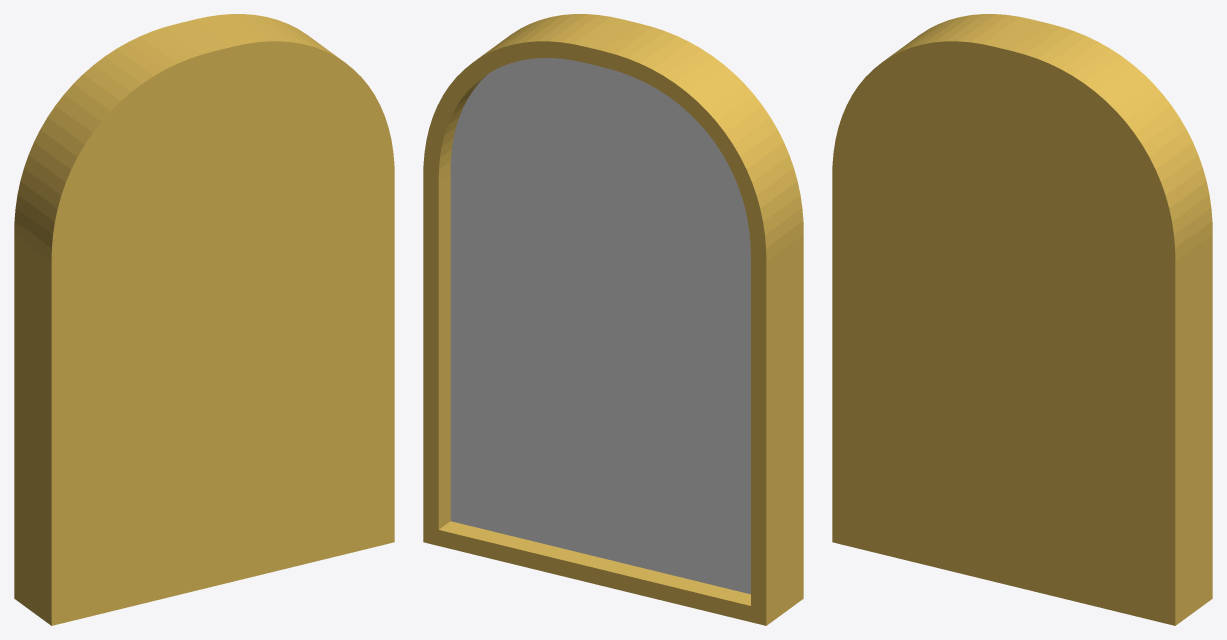
Rendered from mirror.fbx.
The picture shows the model from 3 angles, left to right: view 1: azimuth 30°, elevation 25°; view 2: azimuth 150°, elevation 25°; view 3: azimuth 330°, elevation 25°; orthographic projection.
Parts seen in each view (by area): view 1: Cube; view 2: Cube; view 3: Cube.
Part boxes in pixels (x1,y1,x2,y2): Cube: (14, 14, 394, 625); Cube: (423, 14, 803, 625); Cube: (832, 14, 1212, 625).
Bounding box in the file's own units: 166 × 247 × 31.29.
